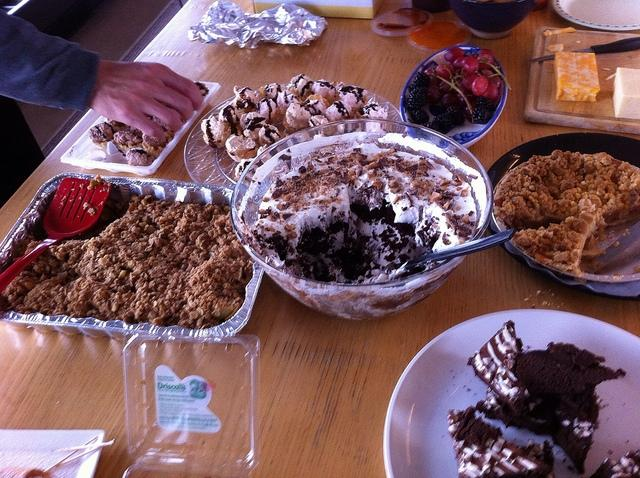grape: (476, 48, 496, 70), (471, 76, 489, 96), (461, 56, 480, 74), (444, 47, 464, 64), (483, 84, 499, 103), (463, 74, 478, 90), (436, 64, 453, 78), (452, 56, 465, 74), (488, 76, 502, 91)
